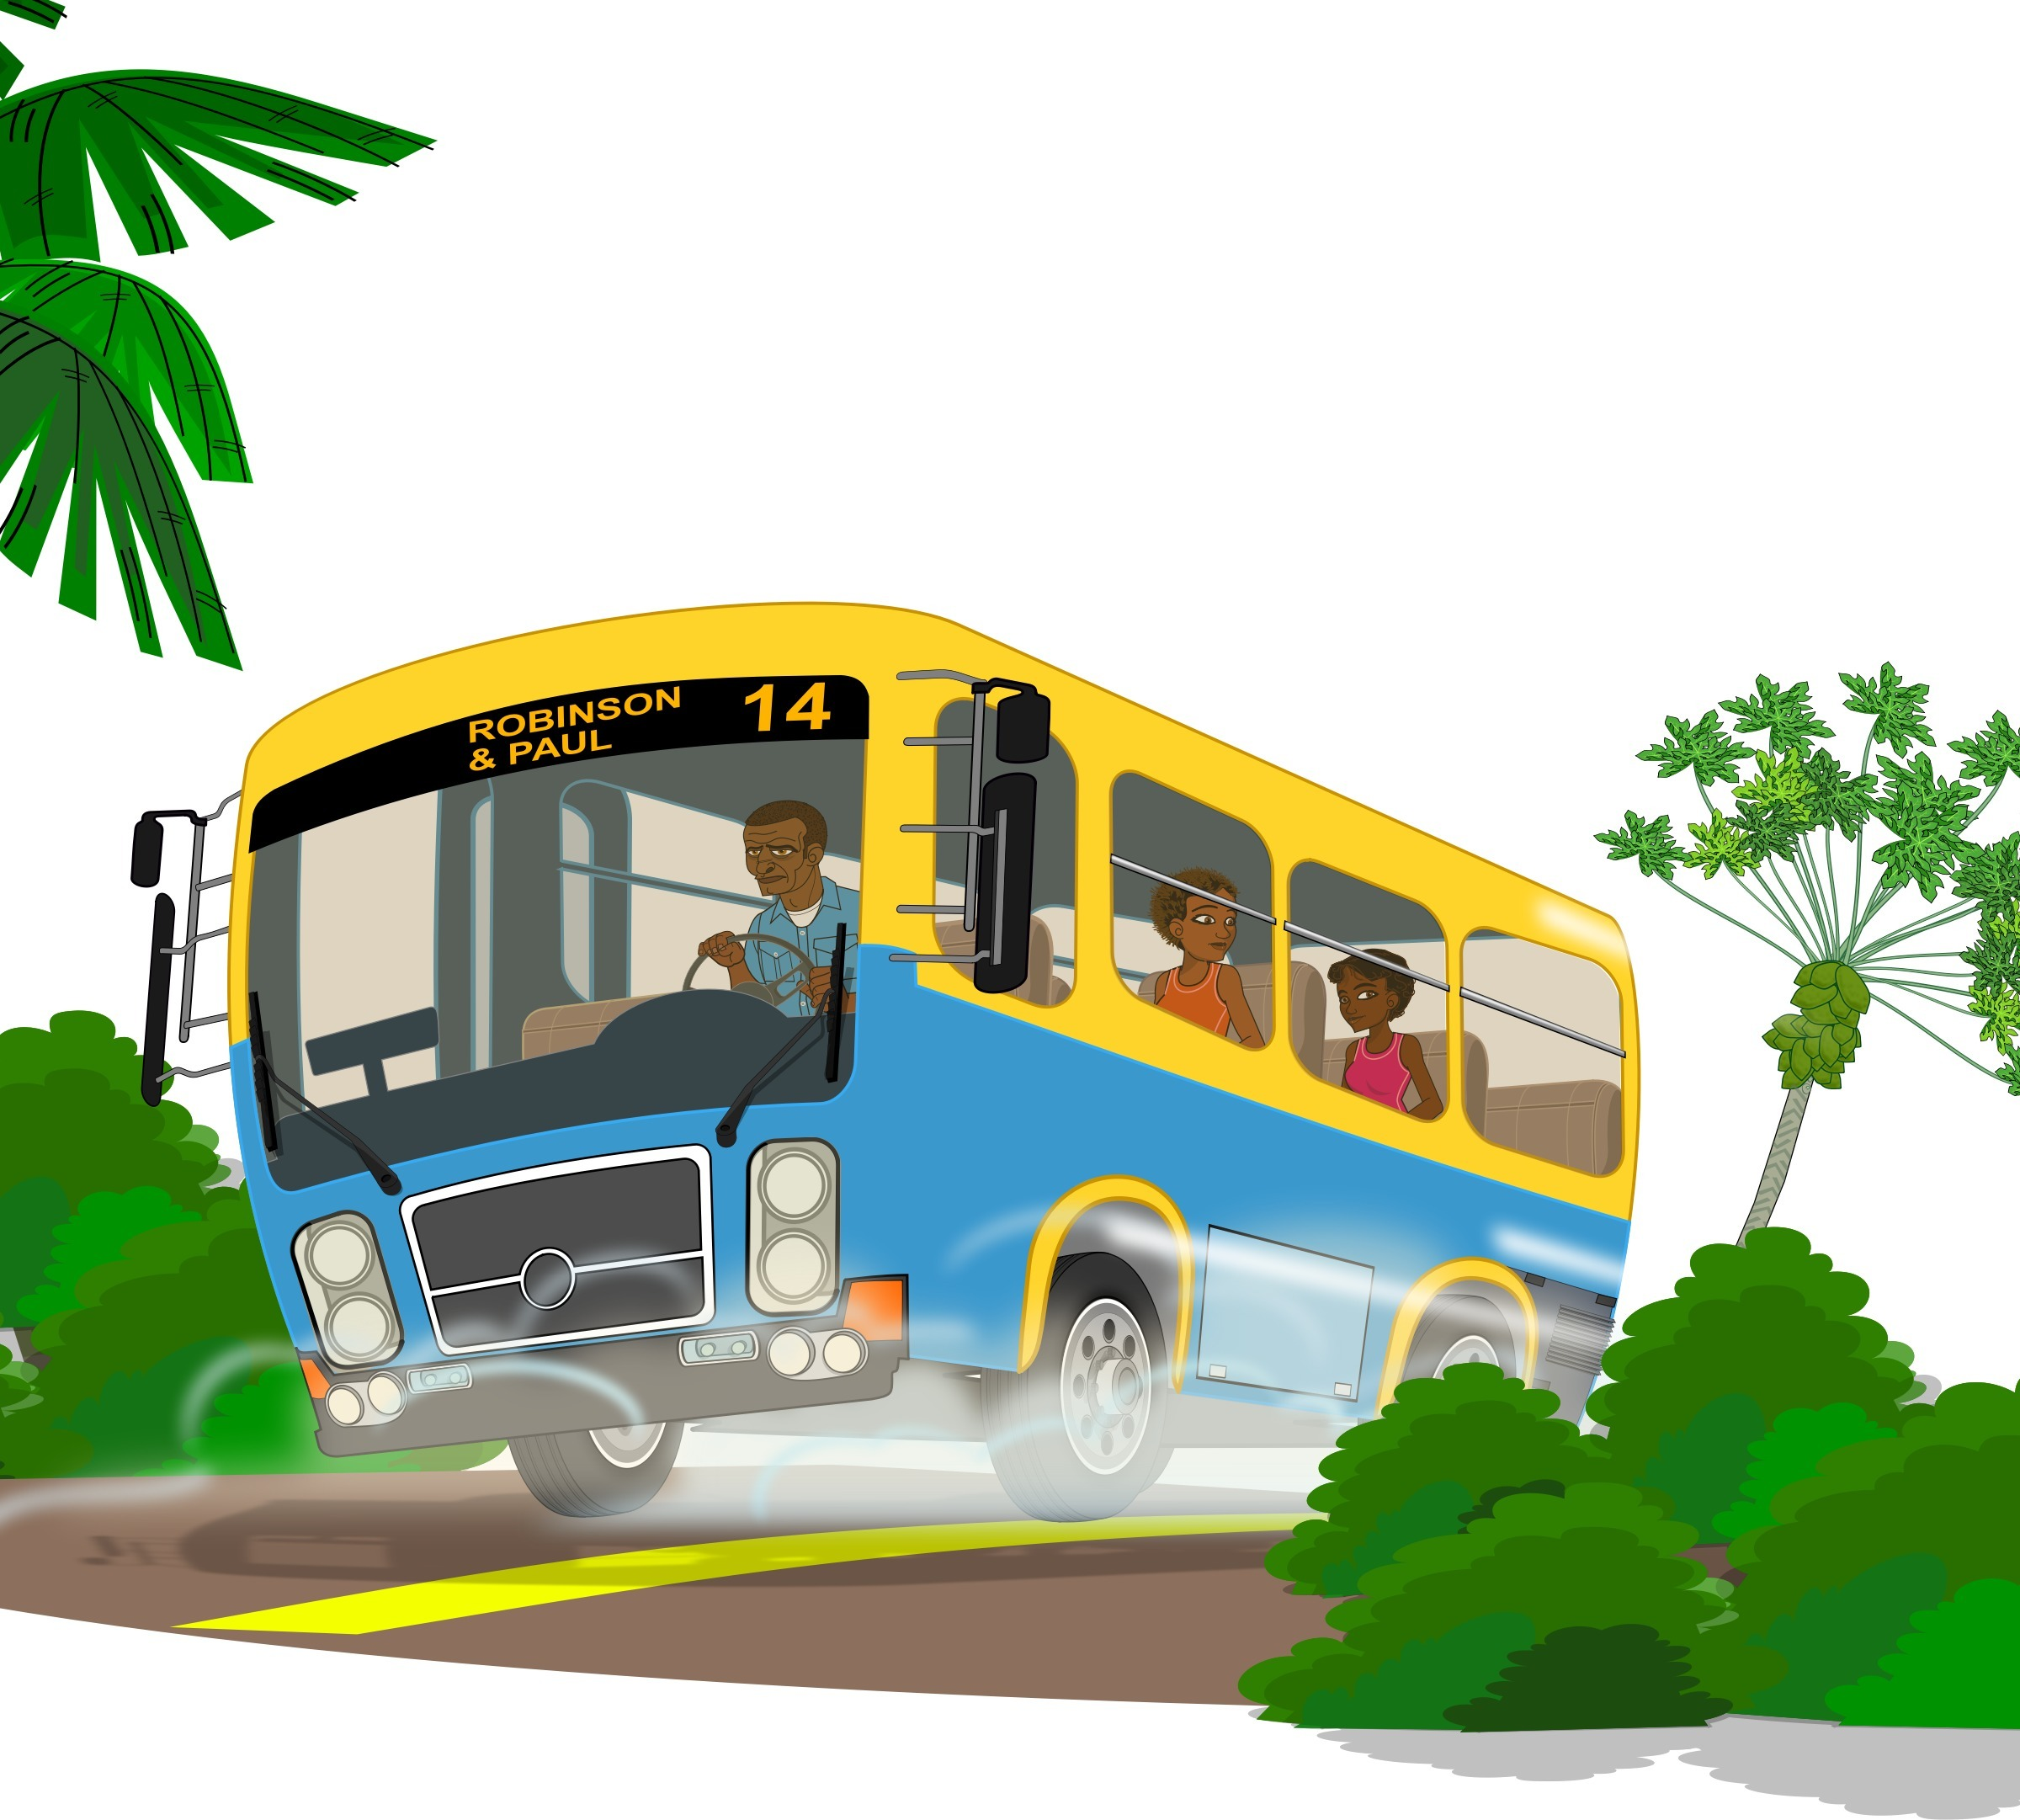bus: (85, 625, 1645, 1557)
person: (721, 796, 880, 1023), (1121, 849, 1263, 1046), (1310, 925, 1439, 1115)
